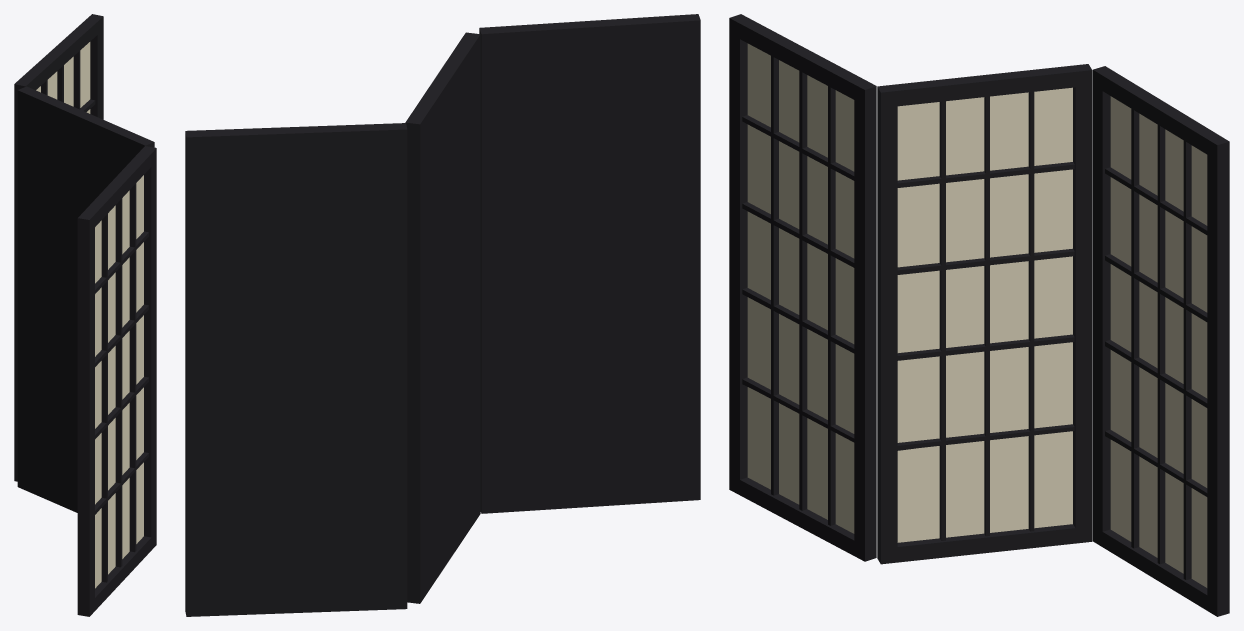
File: Divider.fbx
3 views of the same model, side by side, from view 1: azimuth 30°, elevation 25°; view 2: azimuth 150°, elevation 25°; view 3: azimuth 270°, elevation 25° (orthographic). The views are drawn at different scales.
Visible parts, largest first — view 1: Cube; view 2: Cube; view 3: Cube.
Boxes of the visible parts, left/top/right/bottom form: Cube: left=14, top=14, right=156, bottom=616; Cube: left=185, top=14, right=700, bottom=616; Cube: left=729, top=14, right=1229, bottom=616.
Bounding box in the file's own units: 2.43 × 4.08 × 3.92.
